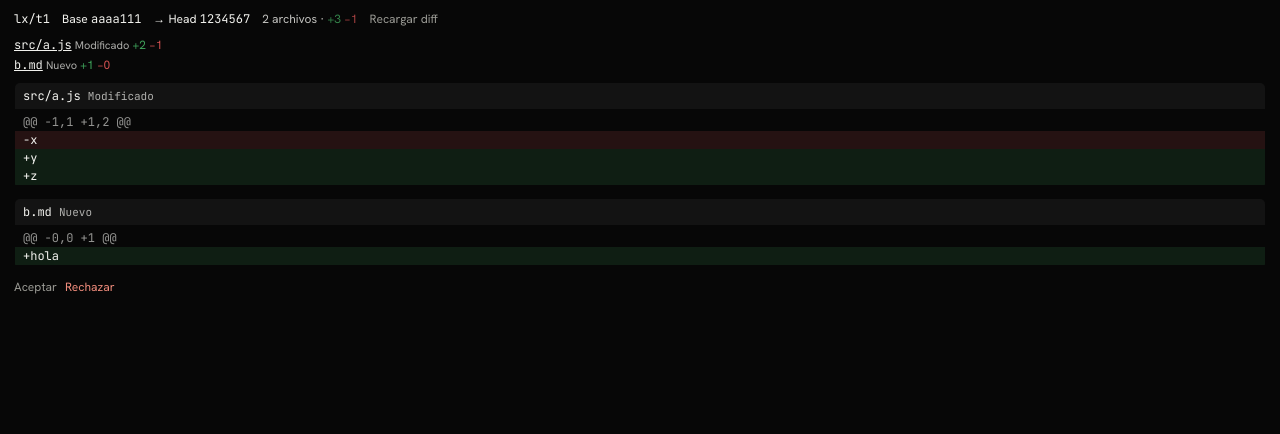
TaskDiffView › rechazar con comentario opcional
Click the button "Rechazar" at (90, 287), box 65,278 -> 115,296
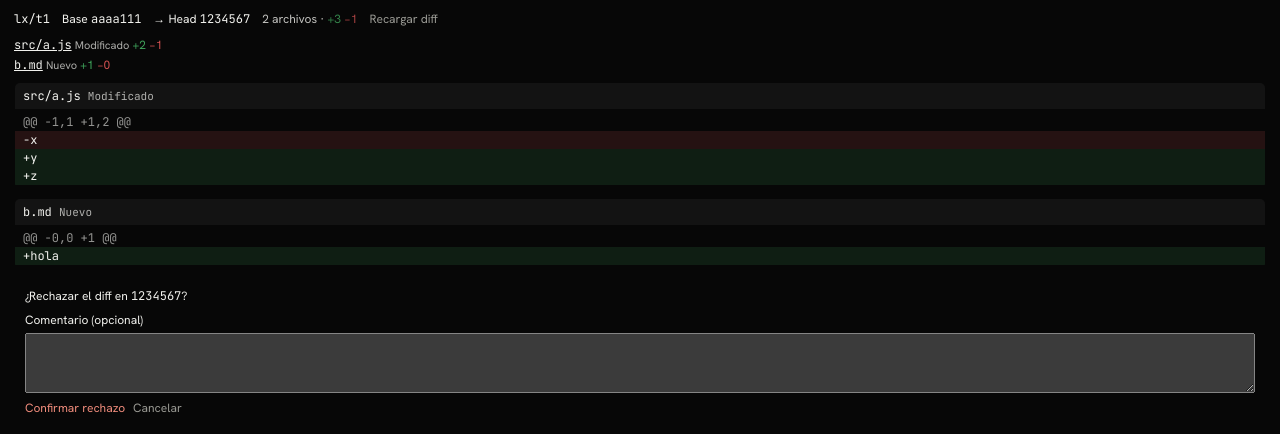
Type "falta test" into the text box labelled "Comentario (opcional)" at (640, 363), box 25,333 -> 1255,393
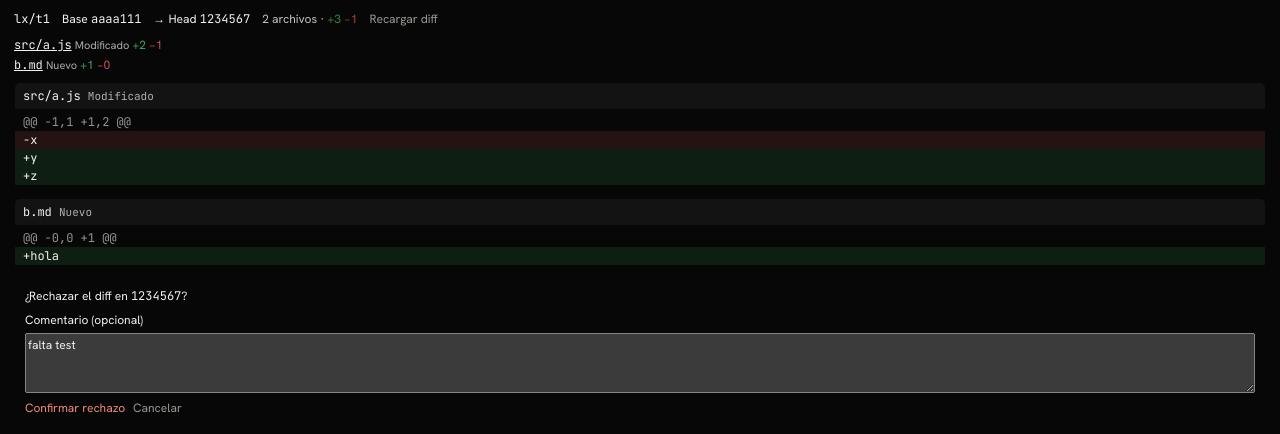
Click the button "Confirmar rechazo" at (75, 408), box 25,399 -> 125,417
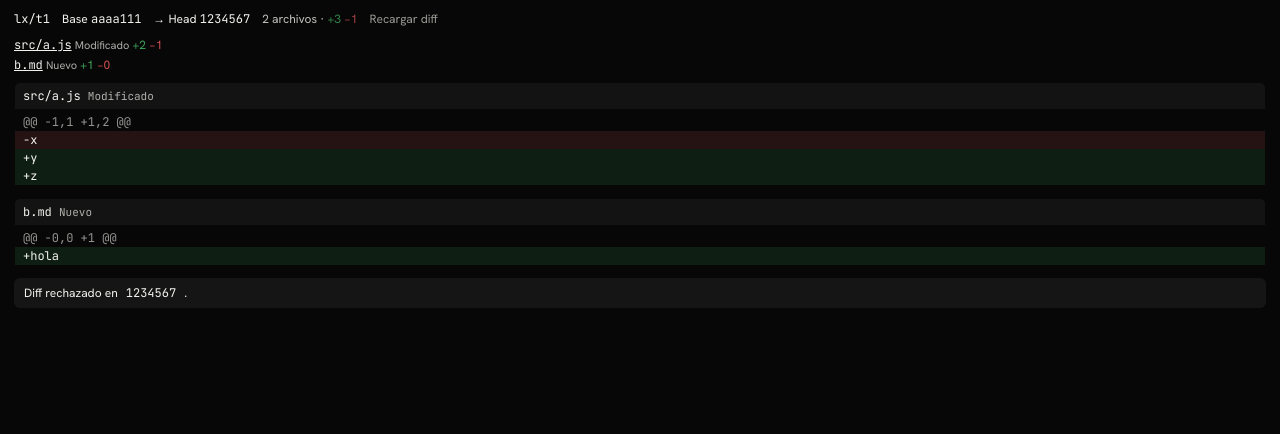
Expected: the element with test id "tdv-done" shows "Diff rechazado", 24,285 -> 102,301
